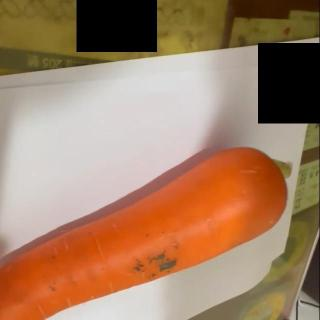carrot: (0, 146, 293, 320)
